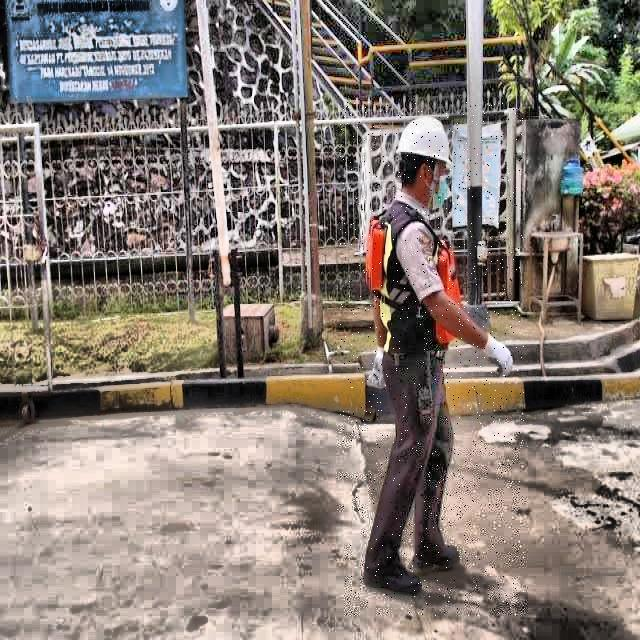safety_helmet: (397, 111, 456, 171)
safety_jacket: (366, 204, 466, 348)
